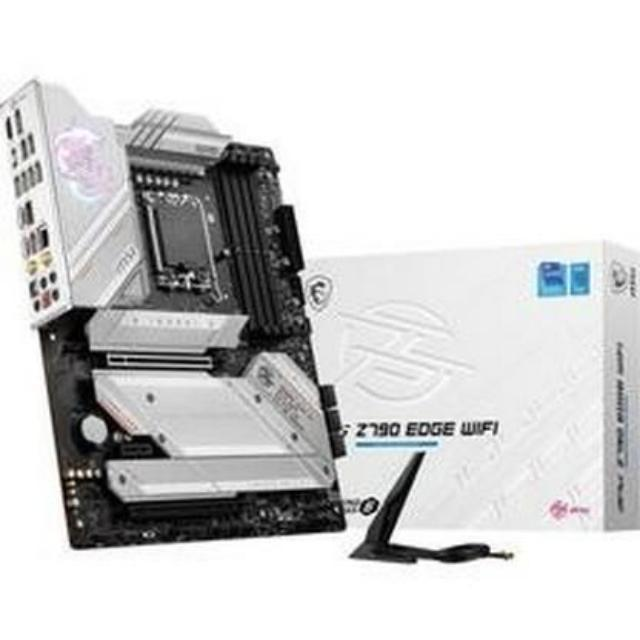Mainboard: (1, 77, 354, 554)
